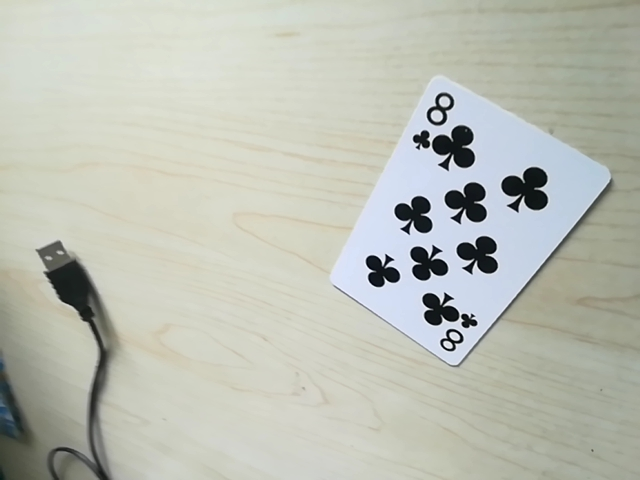mh 8: (410, 83, 464, 143), (419, 310, 482, 357)
